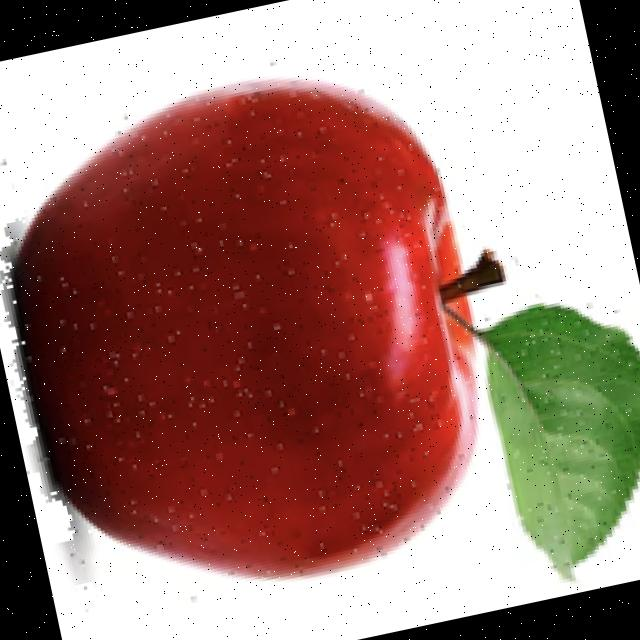apple: (0, 72, 640, 590)
